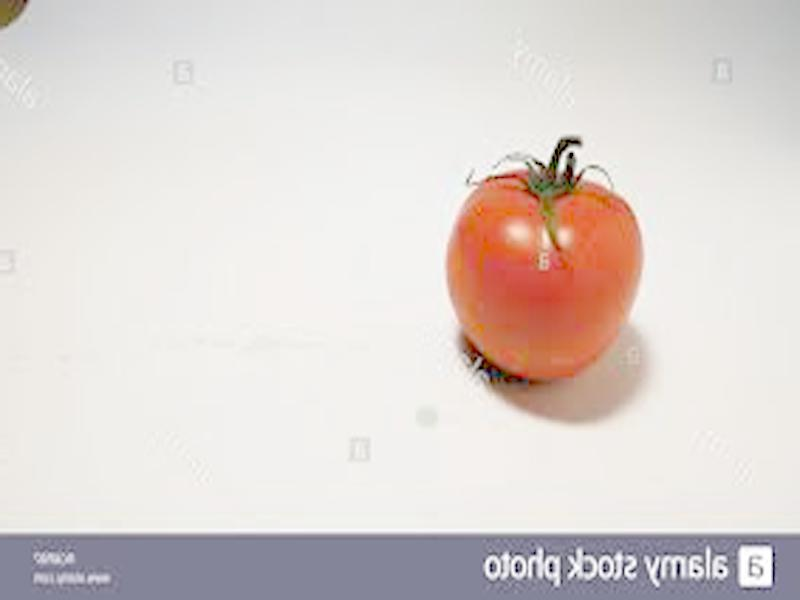Tomato: (446, 172, 641, 381)
